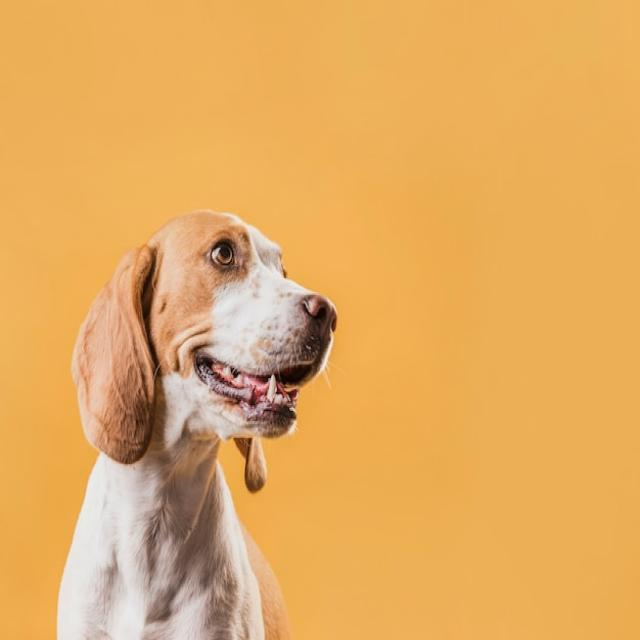Dog: (56, 211, 338, 640)
